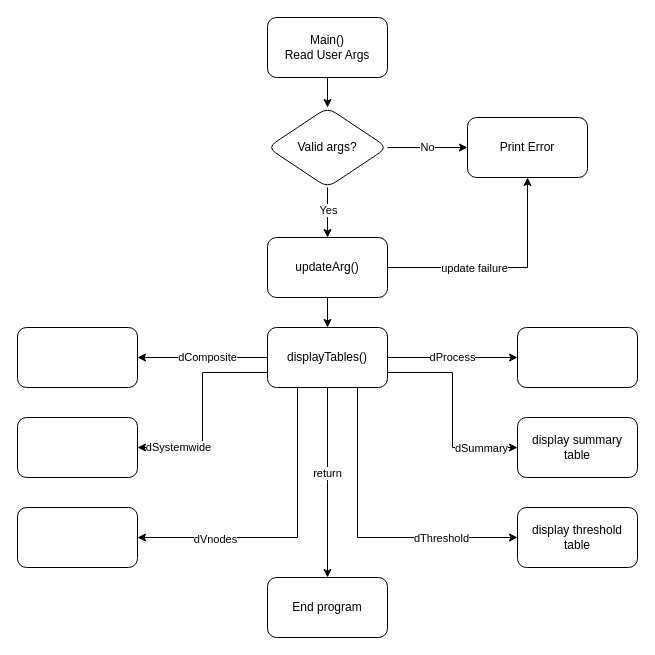
The diagram is 655 pixels wide and 655 high, and some of its shapes have lost their labels. The centre of each missing label's shape, as x and y in pixels:
display composite table: (x=77, y=357)
display per process table: (x=577, y=357)
display system wide table: (x=77, y=447)
display Vnodes table: (x=77, y=537)
